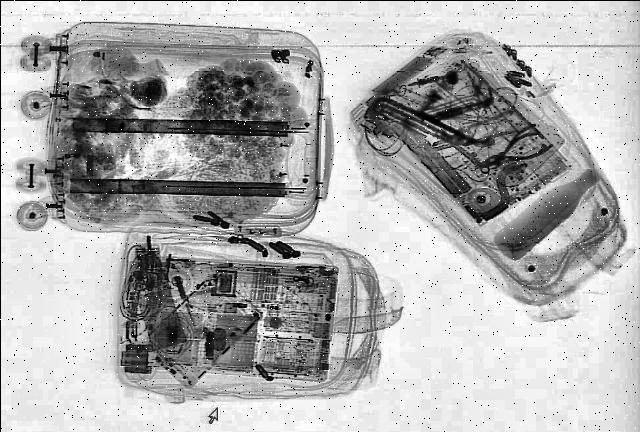Pliers: (466, 126, 558, 176)
